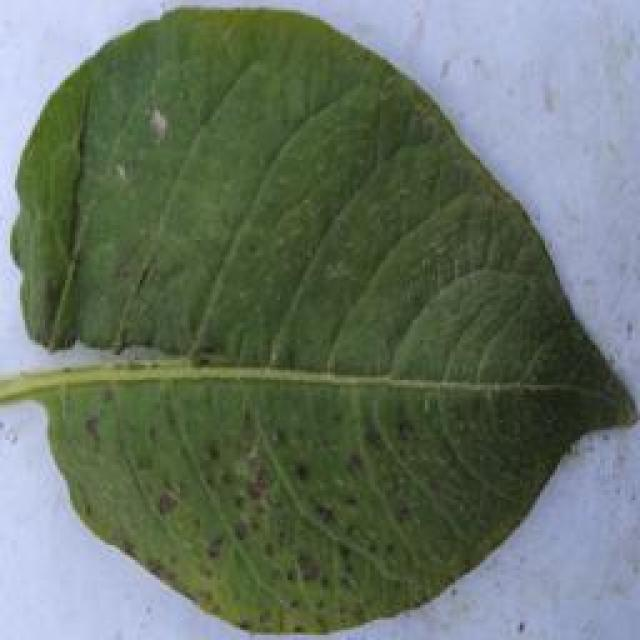Potato_Early_Blight: (6, 2, 634, 630)
